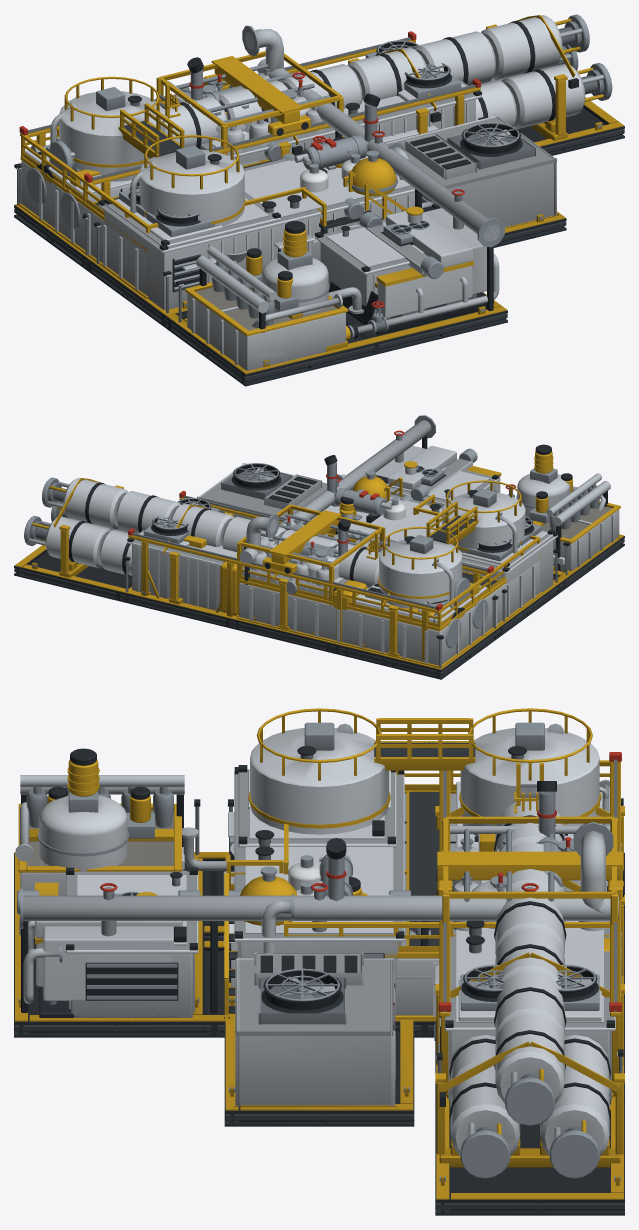
Rendered from pieces.glb.
The picture shows the model from 3 angles, top to bottom: view 1: azimuth 30°, elevation 25°; view 2: azimuth 150°, elevation 25°; view 3: azimuth 270°, elevation 25°; orthographic projection. The views are drawn at different scales.
Parts seen in each view (by area): view 1: piece_L, piece_I4, piece_J, piece_S, piece_Z, piece_O, piece_I3, piece_V, piece_T; view 2: piece_I4, piece_L, piece_O, piece_S, piece_J, piece_I3, piece_Z, piece_V, piece_T; view 3: piece_L, piece_I4, piece_J, piece_Z, piece_S, piece_O, piece_V, piece_I3, piece_T.
Boxes of the visible parts, box(x1,y1,x2,y2) form: piece_L: box(14, 76, 507, 386); piece_I4: box(26, 14, 624, 254); piece_J: box(174, 25, 504, 381); piece_S: box(94, 40, 481, 320); piece_Z: box(24, 74, 566, 255); piece_O: box(14, 102, 406, 327); piece_I3: box(14, 31, 485, 269); piece_V: box(37, 51, 343, 324); piece_T: box(36, 125, 437, 265); piece_I4: box(14, 477, 495, 676); piece_L: box(343, 465, 624, 677); piece_O: box(233, 477, 561, 678); piece_S: box(127, 455, 557, 651); piece_J: box(233, 415, 620, 650); piece_I3: box(123, 490, 498, 679); piece_Z: box(197, 463, 498, 628); piece_V: box(235, 504, 558, 663); piece_T: box(123, 470, 464, 632); piece_L: box(14, 708, 624, 1037); piece_I4: box(435, 801, 624, 1215); piece_J: box(17, 748, 624, 1037); piece_Z: box(224, 781, 609, 1126); piece_S: box(223, 767, 624, 1106); piece_O: box(224, 760, 624, 1037); piece_V: box(225, 765, 617, 1021); piece_I3: box(435, 752, 624, 1111); piece_T: box(228, 866, 623, 1110).
Bounding box in the file's own units: 3.9 × 0.999 × 2.9.
